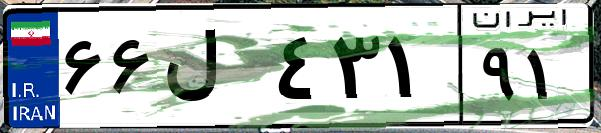1: (385, 28, 445, 110), (525, 38, 570, 115)
3: (330, 28, 385, 110)
4: (270, 28, 330, 110)
6: (57, 26, 110, 100), (110, 28, 158, 98)
9: (475, 38, 525, 113)
ل: (158, 20, 270, 120)
